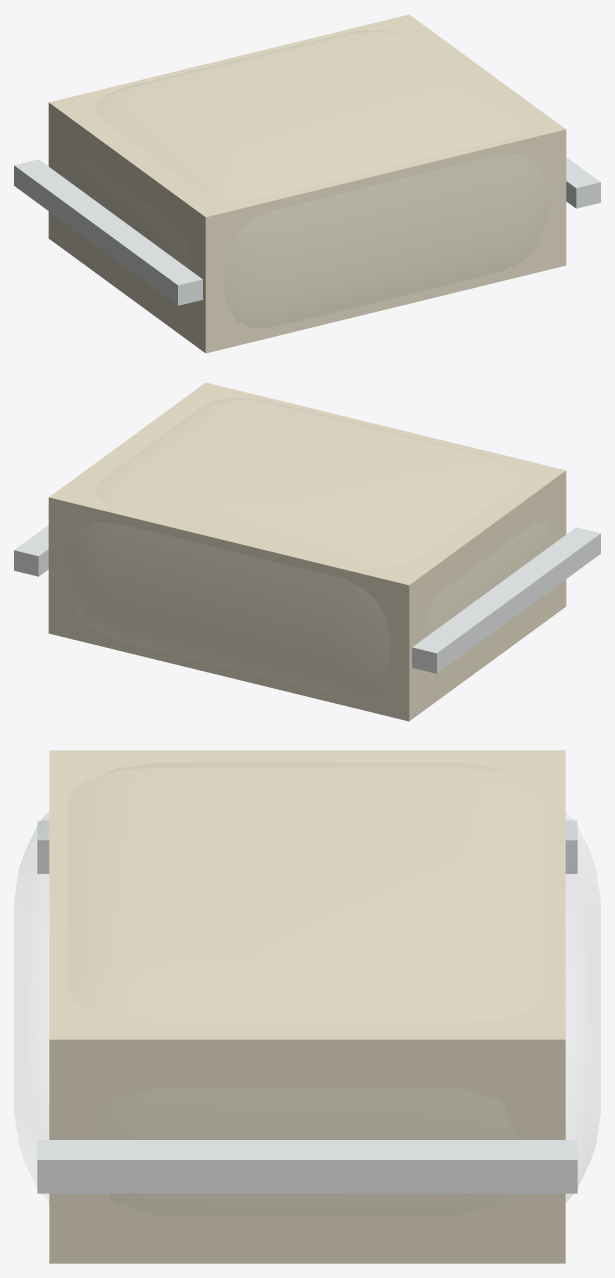
Rendered from item-garlic_200.glb.
3 renders of one model, top to bottom at view 1: azimuth 30°, elevation 25°; view 2: azimuth 150°, elevation 25°; view 3: azimuth 270°, elevation 25°, orthographic. The views are drawn at different scales.
Visible parts, largest first — view 1: contents, seal, seal.001, body; view 2: contents, seal, seal.001, body; view 3: contents, seal.001, body, seal.
Boxes of the visible parts, <box> form: contents: <box>48,14,566,353</box>; seal: <box>14,159,202,305</box>; seal.001: <box>566,157,600,208</box>; body: <box>108,30,403,94</box>; contents: <box>48,382,566,721</box>; seal: <box>412,527,600,673</box>; seal.001: <box>14,525,48,576</box>; body: <box>211,398,508,463</box>; contents: <box>49,750,565,1263</box>; seal.001: <box>37,1140,577,1193</box>; body: <box>14,764,600,1201</box>; seal: <box>37,820,577,873</box>.
Bounding box in the file's own units: 0.13 × 0.05 × 0.095.
